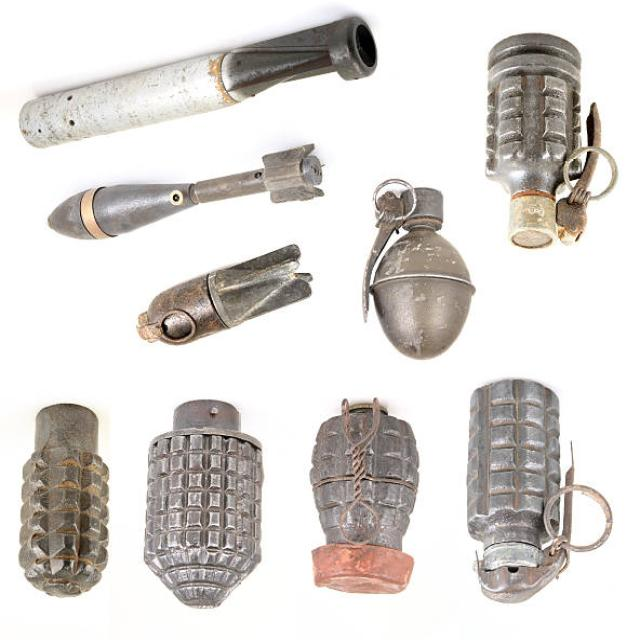grenade: (463, 376, 615, 611), (484, 31, 616, 258), (142, 398, 273, 614), (360, 178, 480, 366), (17, 397, 116, 601)
